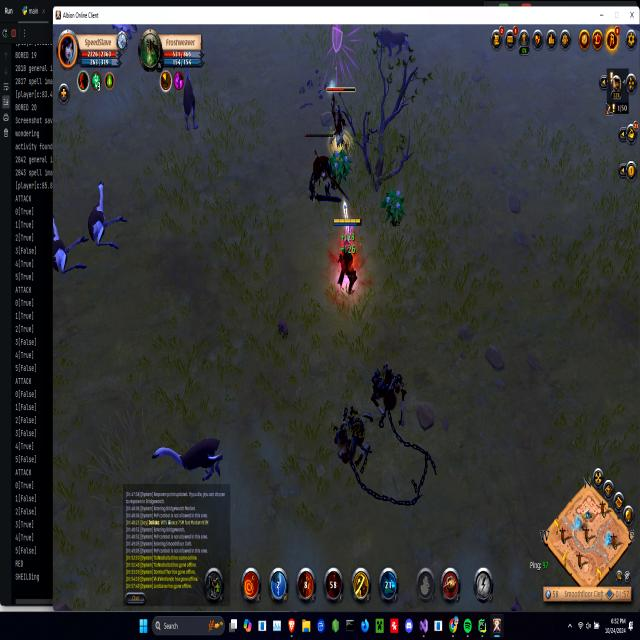hide: (325, 141, 356, 187), (382, 183, 407, 232)
mob: (88, 178, 127, 258), (54, 212, 92, 276)
ore: (146, 428, 232, 493), (300, 126, 342, 206), (324, 79, 357, 158), (182, 70, 203, 136)
red: (330, 214, 364, 294)
